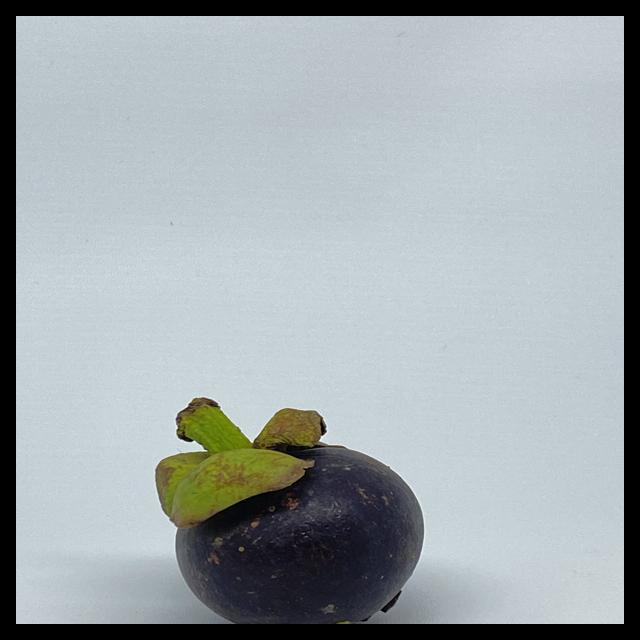mangosteen: (115, 371, 455, 624)
